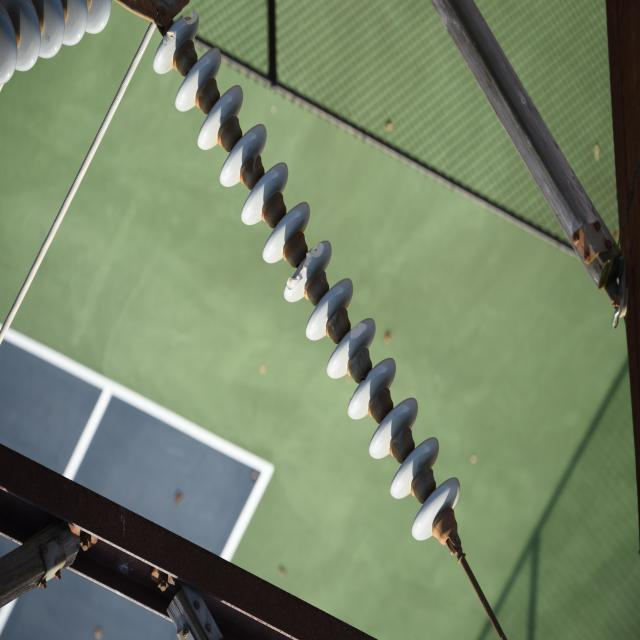broken: (282, 238, 328, 299), (163, 7, 199, 47)
insulator: (154, 11, 460, 542), (0, 1, 113, 89)
